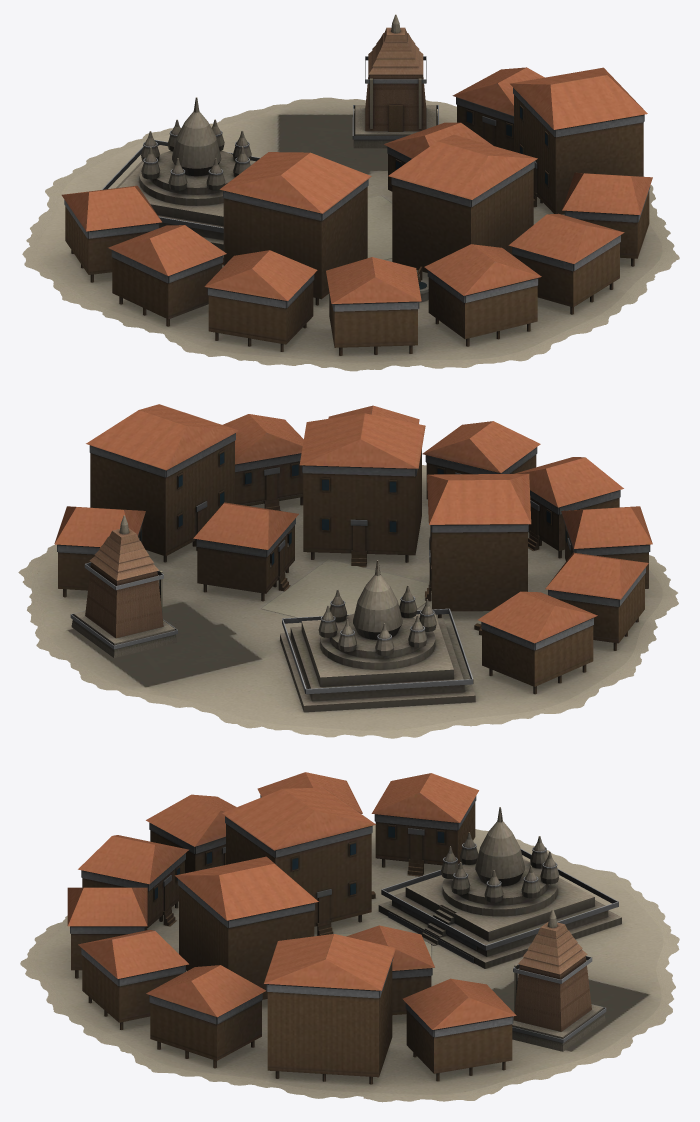
File: classical-town-medium-b-monsoon.glb
3 views of the same model, one above another, from view 1: azimuth 30°, elevation 25°; view 2: azimuth 150°, elevation 25°; view 3: azimuth 270°, elevation 25° (orthographic).
Parts seen in each view (by area): view 1: LOD0; view 2: LOD0; view 3: LOD0.
Boxes of the visible parts, box(x1,y1,x2,y2) form: LOD0: box(22, 14, 679, 371); LOD0: box(18, 404, 678, 738); LOD0: box(20, 772, 679, 1102).
Size of what is drawn, in the model's own units: 5.97 by 1.2 by 5.97.
3 materials, 3 textured.
